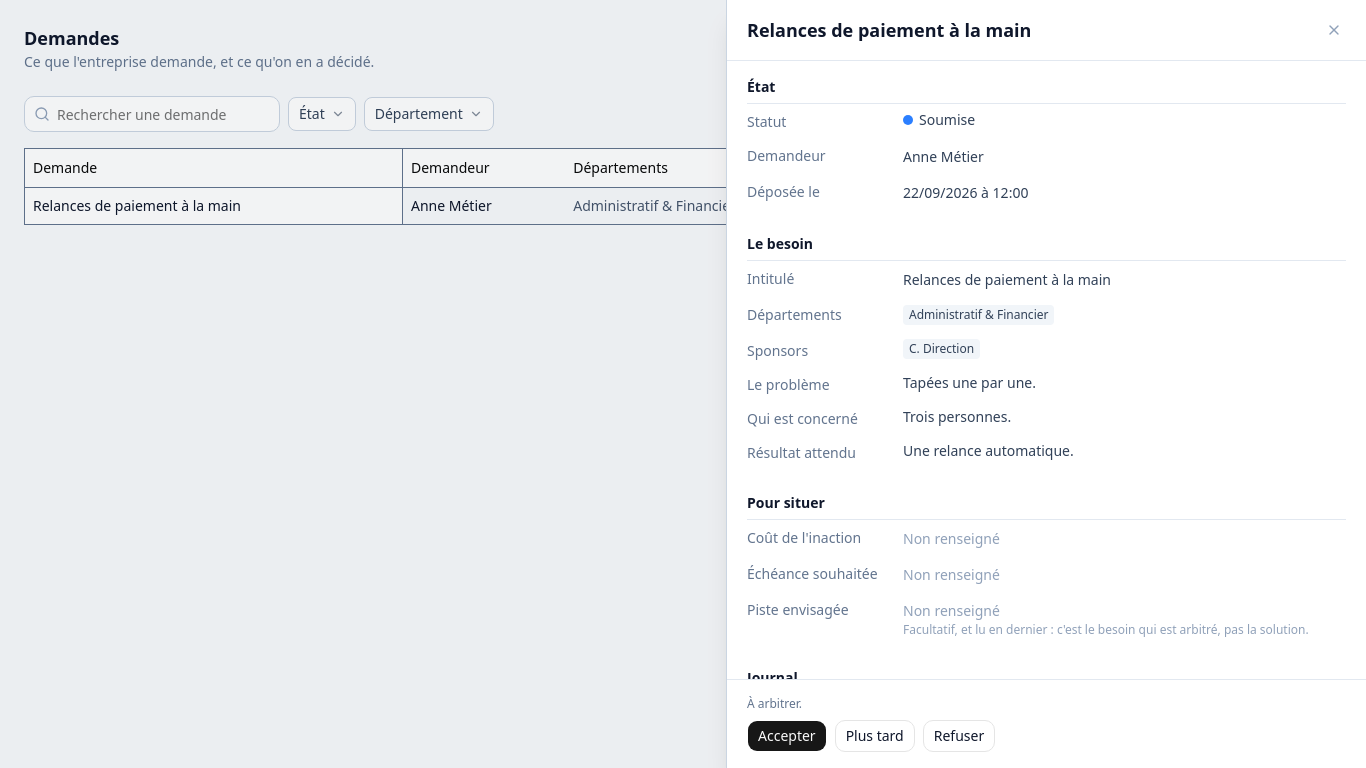
Test: RequestsPage › refuses to turn a need down without a reason
The image size is (1366, 768).
Click the button "Refuser". click: [959, 736]
box: [923, 720, 995, 752]
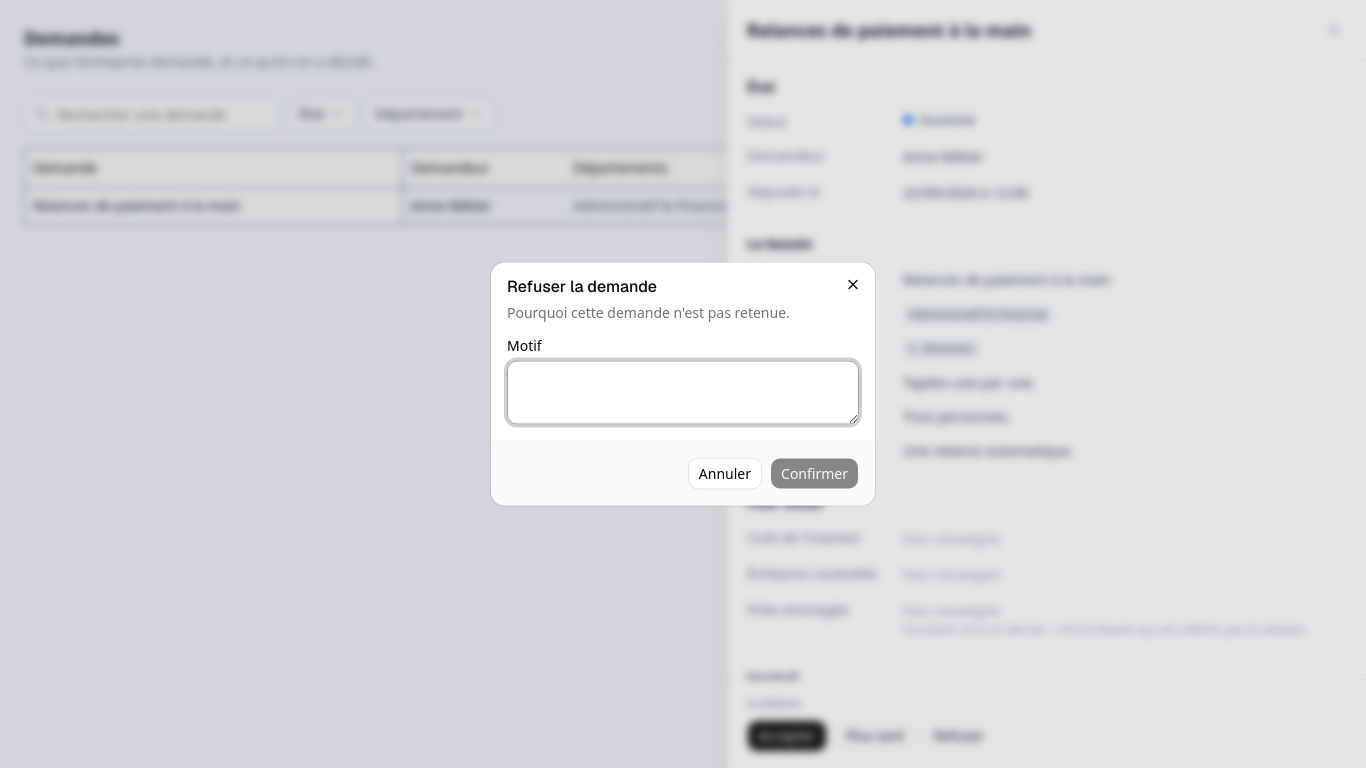
Now the button "Confirmer" is disabled, box [770, 458, 859, 490]
